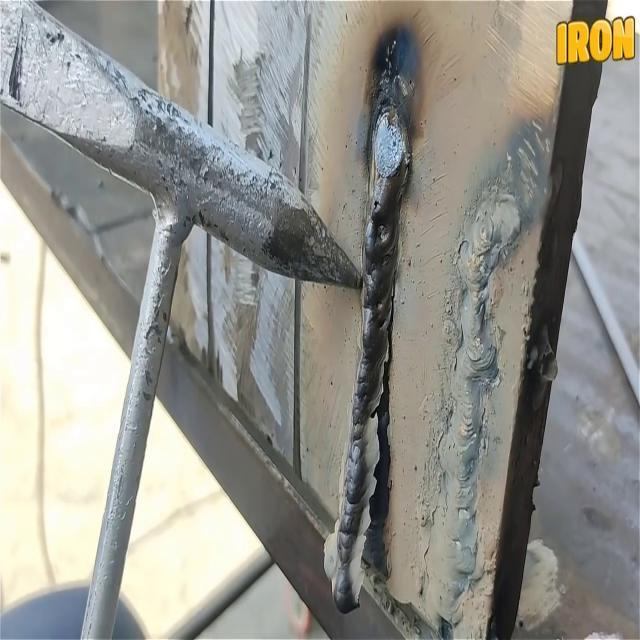Bad Welding: (325, 47, 412, 612)
Crack: (425, 191, 521, 632), (364, 329, 391, 577)
